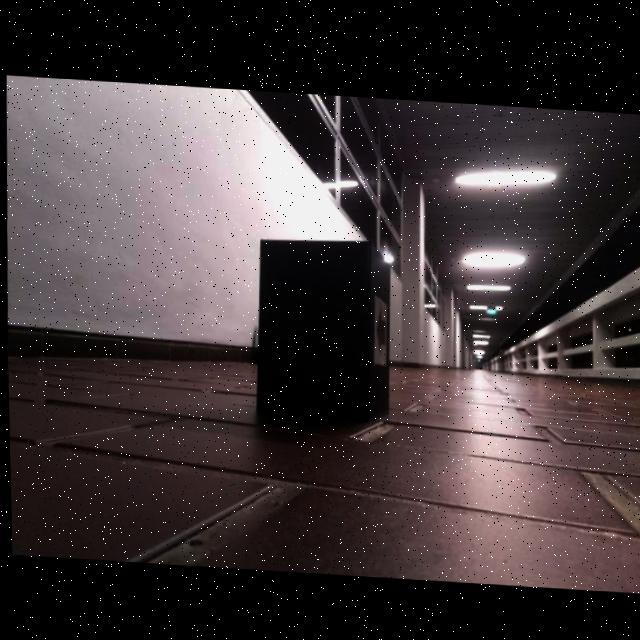LEFT: (374, 301, 384, 353)
